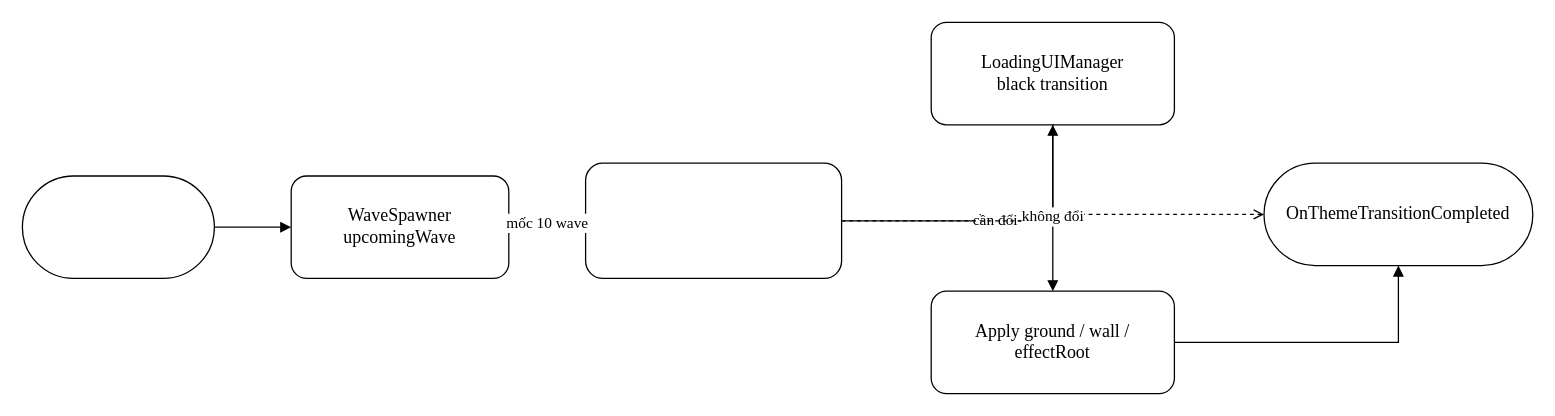
Image size: 1555x416. Some labels were removed from this diagram. Here are the shapes that lost their labels. From the top down, the centre of each, then its label:
point 117,226: Wave complete
point 713,220: MapThemeManager ResolveThemeIndexForWave
